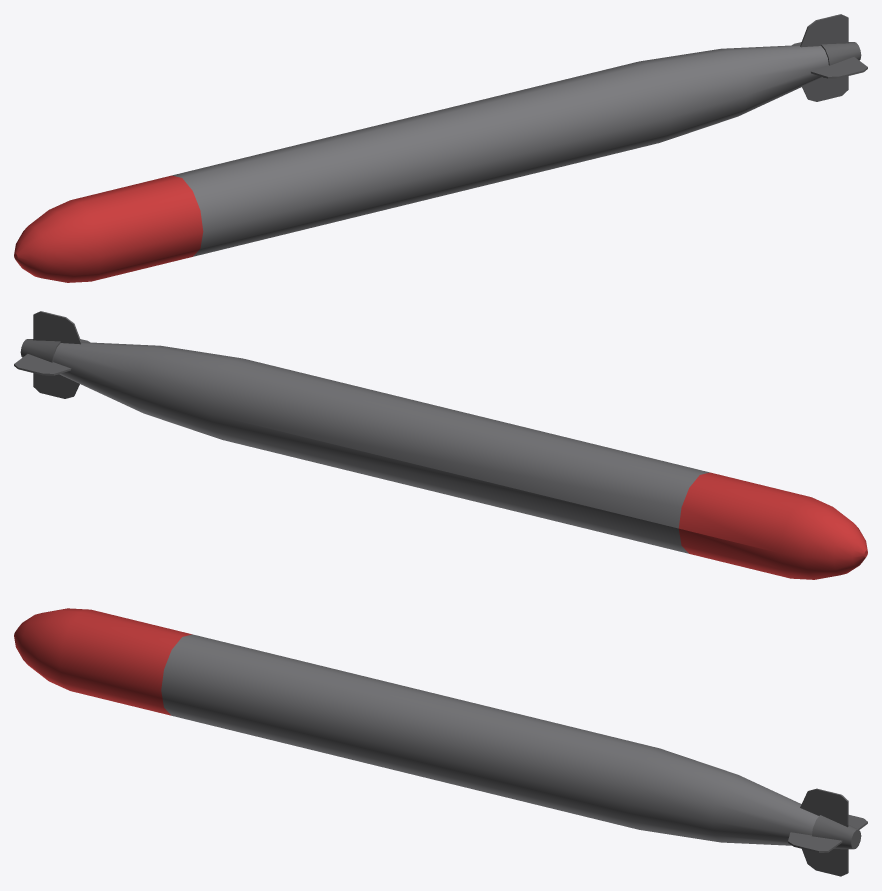
Rendered from Torpedo.fbx.
3 views of the same model, one above another, from view 1: azimuth 30°, elevation 25°; view 2: azimuth 150°, elevation 25°; view 3: azimuth 330°, elevation 25° (orthographic).
Parts seen in each view (by area): view 1: Cylinder; view 2: Cylinder; view 3: Cylinder.
Part boxes in pixels (left/top/right/bottom): Cylinder: left=14, top=14, right=867, bottom=282; Cylinder: left=14, top=311, right=867, bottom=579; Cylinder: left=14, top=608, right=867, bottom=876.
Size of the model in its own units: 422 by 38.99 by 38.99.
